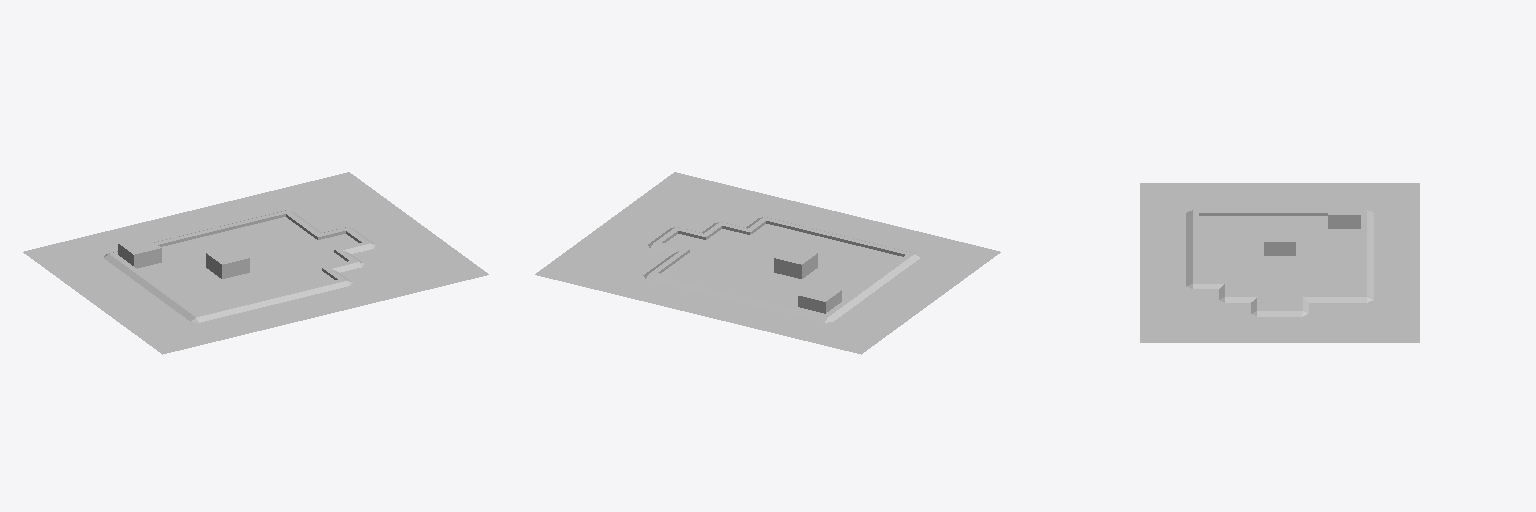
File: puzzleTest.obj
3 renders of one model, left to right at view 1: azimuth 30°, elevation 25°; view 2: azimuth 150°, elevation 25°; view 3: azimuth 270°, elevation 25°, orthographic.
Parts seen in each view (by area): view 1: Cube.001_Cube.003; view 2: Cube.001_Cube.003; view 3: Cube.001_Cube.003.
Boxes of the visible parts, <box> form: Cube.001_Cube.003: <box>23,172,488,354</box>; Cube.001_Cube.003: <box>535,172,1000,354</box>; Cube.001_Cube.003: <box>1140,183,1419,342</box>.
Bounding box in the file's own units: 58.5 × 2.5 × 43.5.